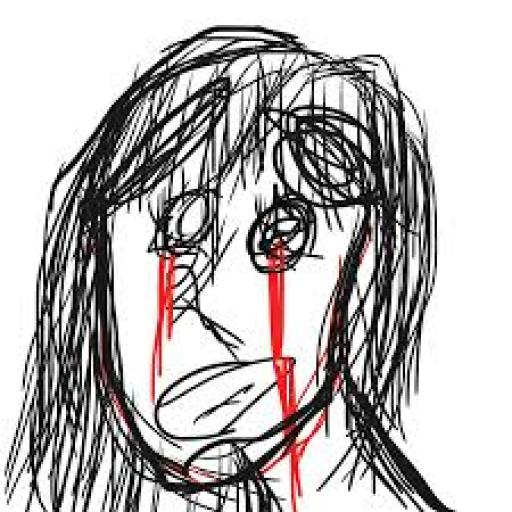person: (3, 7, 460, 512)
